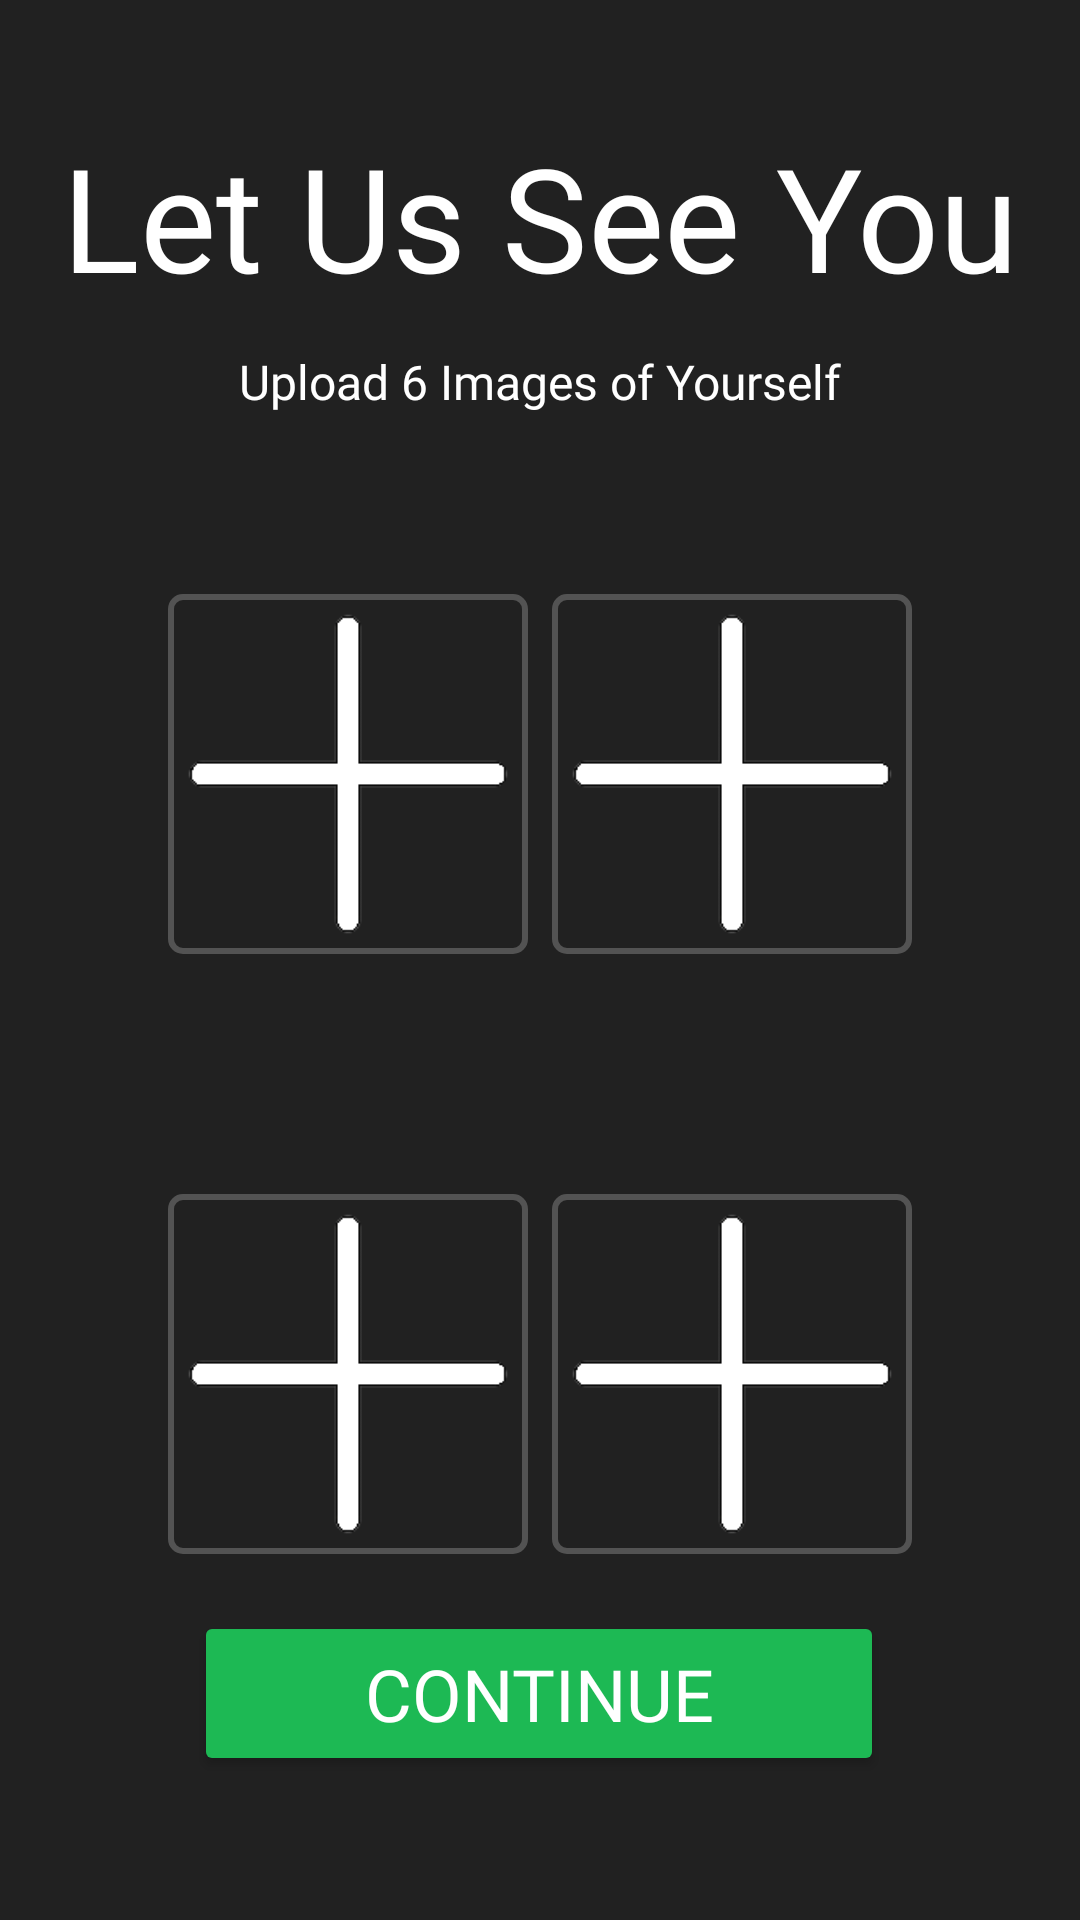

Screen size 1080 x 1920. Icon name, then its center in pixels as (x=x, y=y):
add: (x=348, y=774), (x=732, y=774), (x=348, y=1374), (x=732, y=1374)
